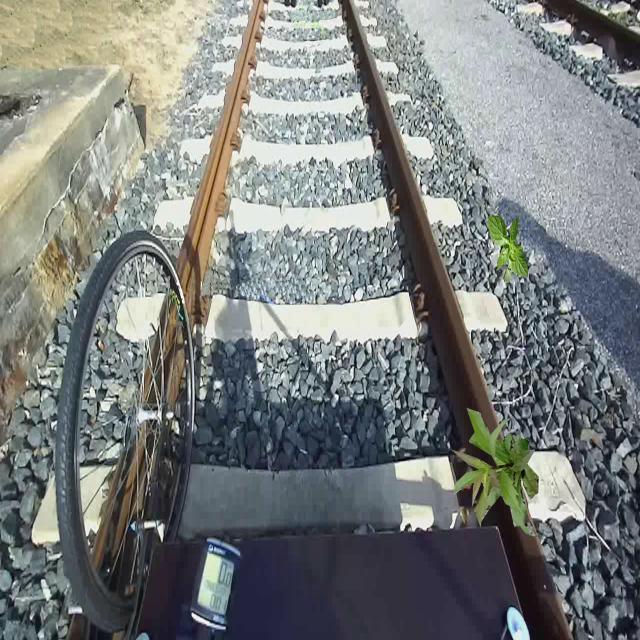Plant: (450, 408, 538, 538), (487, 213, 528, 284)
